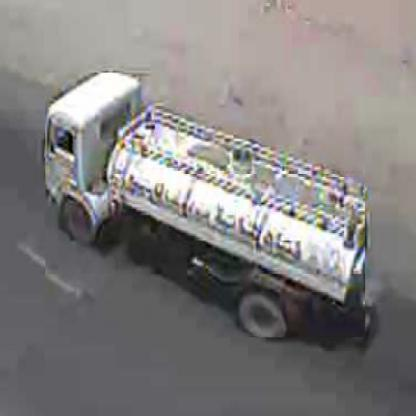truck: (47, 74, 368, 340)
